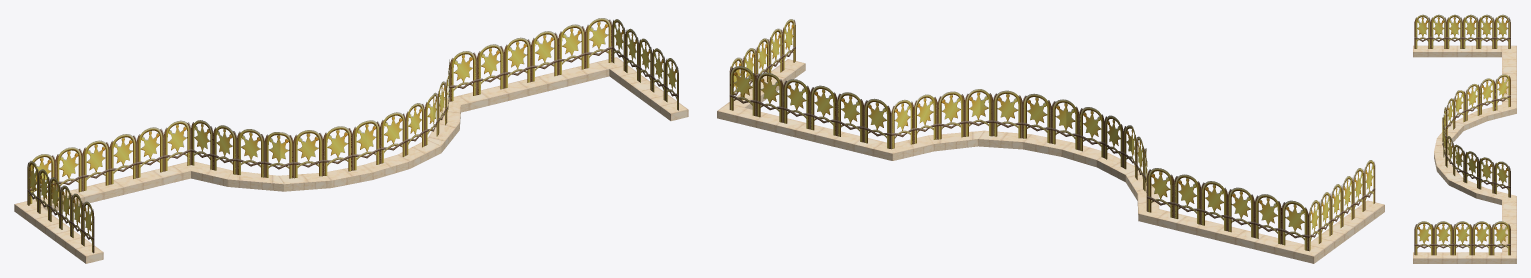
The model's file is sakucasino.dae.
3 renders of one model, left to right at view 1: azimuth 30°, elevation 25°; view 2: azimuth 150°, elevation 25°; view 3: azimuth 270°, elevation 25°, orthographic. The views are drawn at different scales.
Parts seen in each view (by area): view 1: m1, m0; view 2: m1, m0; view 3: m1, m0.
Boxes of the visible parts, x1,y1,x2,y2 form: m1: [27, 18, 678, 253]; m0: [14, 57, 688, 263]; m1: [729, 19, 1375, 251]; m0: [717, 59, 1384, 263]; m1: [1414, 14, 1510, 255]; m0: [1413, 45, 1516, 263].
Size of the model in its own units: 1700 by 150 by 350.
2 materials, 2 textured.
